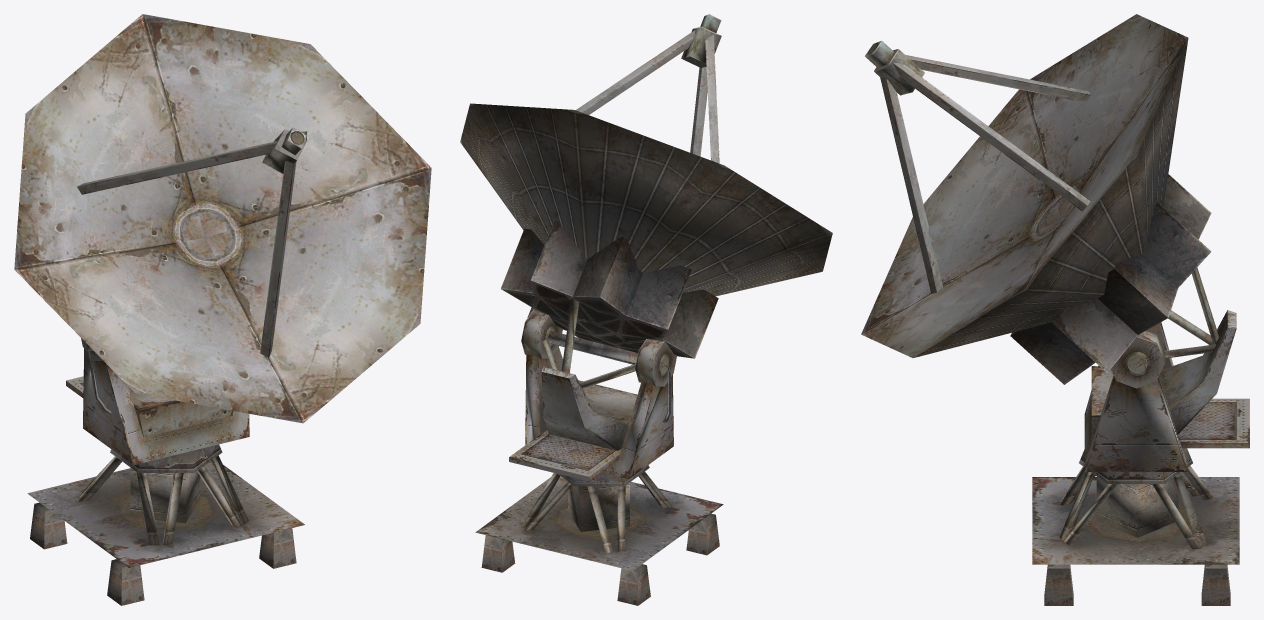
The model's file is Building_JyzLd001_lod2.glb.
The picture shows the model from 3 angles, left to right: view 1: azimuth 30°, elevation 25°; view 2: azimuth 150°, elevation 25°; view 3: azimuth 270°, elevation 25°; orthographic projection. The views are drawn at different scales.
Parts seen in each view (by area): view 1: jyz_ld001_lod2_0; view 2: jyz_ld001_lod2_0; view 3: jyz_ld001_lod2_0.
Part boxes in pixels (x1,y1,x2,y2): jyz_ld001_lod2_0: (14,14,431,605); jyz_ld001_lod2_0: (460,14,832,605); jyz_ld001_lod2_0: (861,14,1249,605).
Bounding box in the file's own units: 78.74 × 93.34 × 62.45.
Materials: 2 (2 with a texture image).
